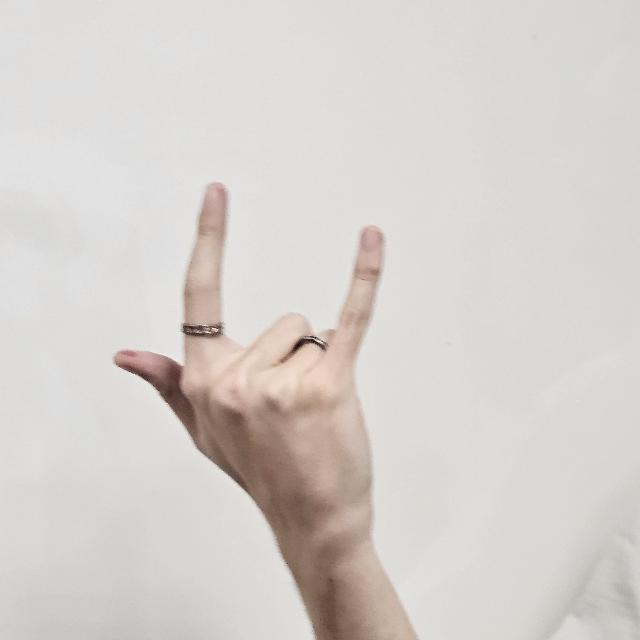Cima: (112, 174, 394, 554)
